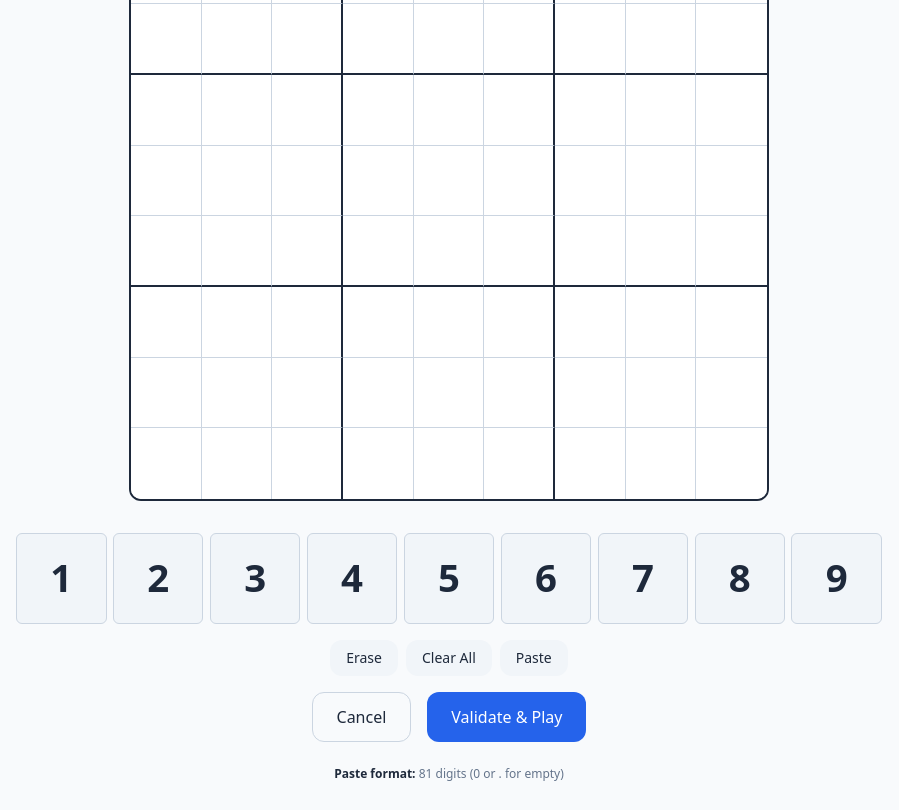
it: Custom page › paste › shows the failed-to-read message when the clipboard read rejects
The width and height of the screenshot is (899, 810).
What coordinates should you click on to do the following:
click the button "Paste"
I would click on:
 (534, 658)
Its box is [500,640,568,676].
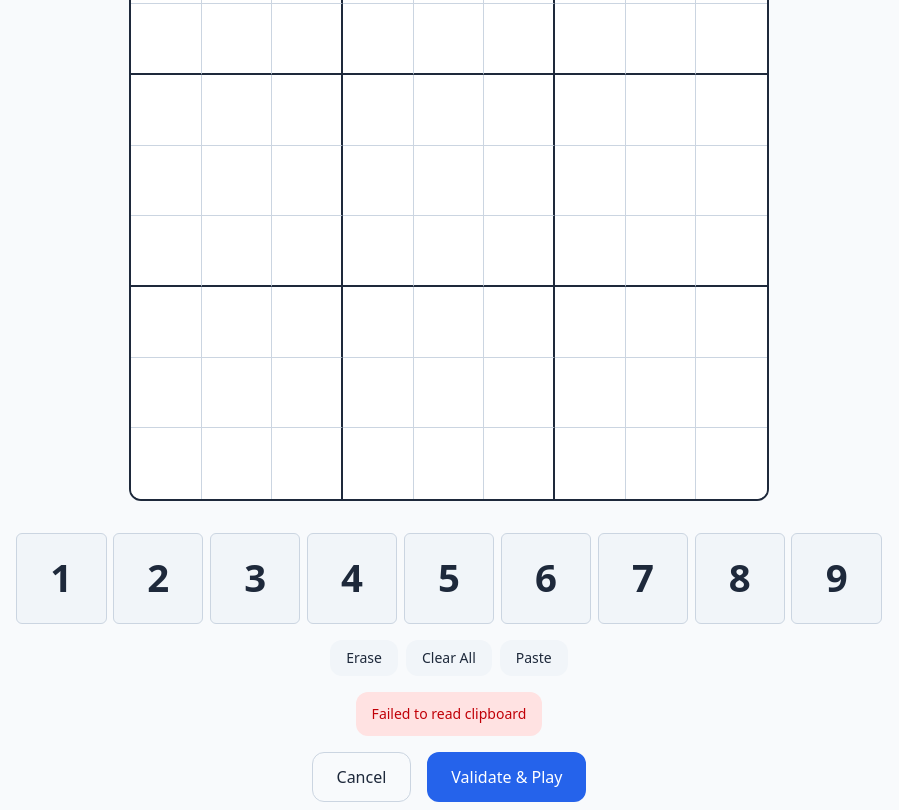
Now the text "Failed to read clipboard" is shown, box [356,692,542,736]
